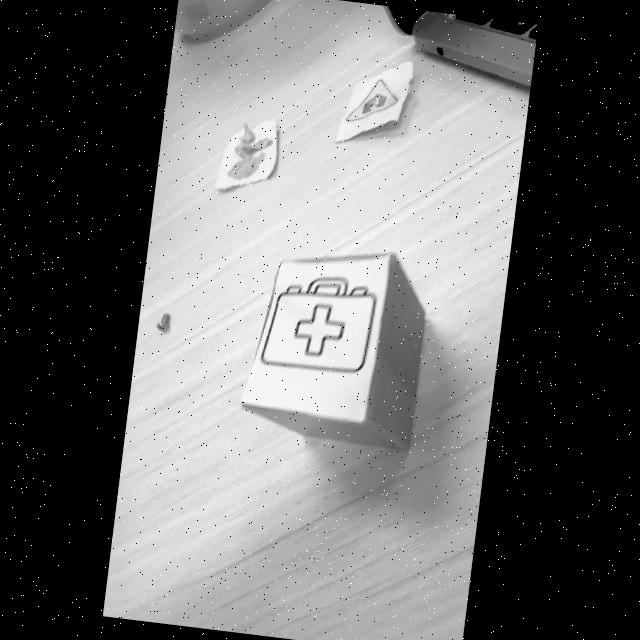Medkit: (261, 278, 376, 372)
